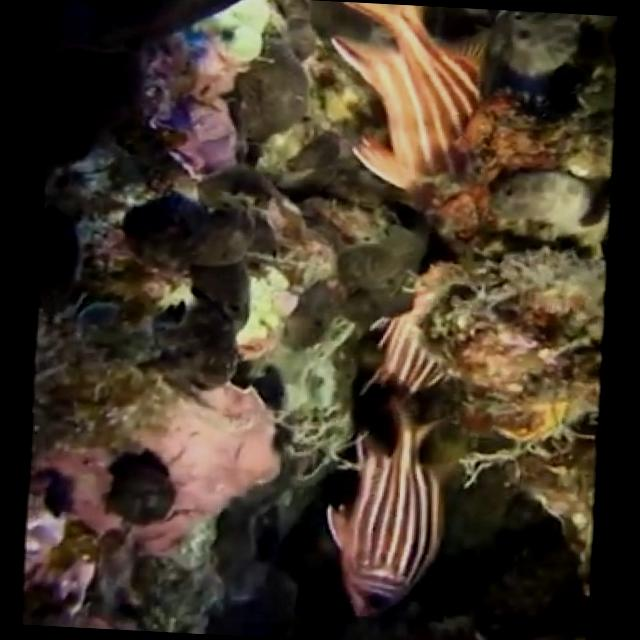Asker Baligi: (317, 398, 458, 620)
